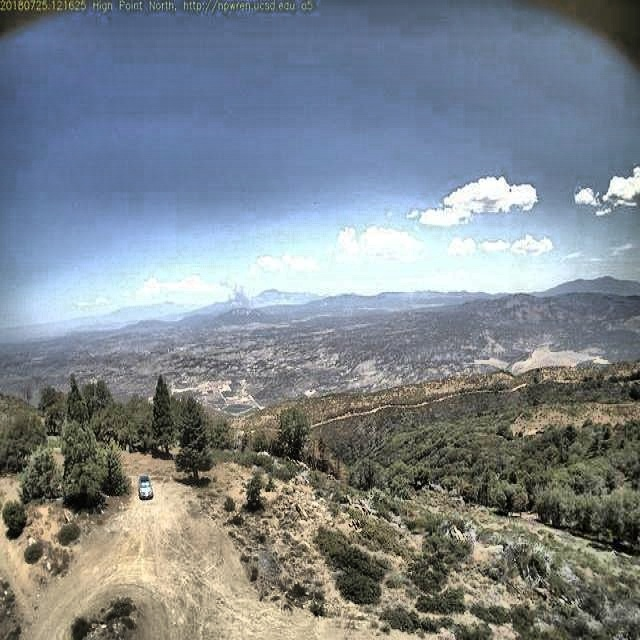smoke: (220, 272, 255, 315)
